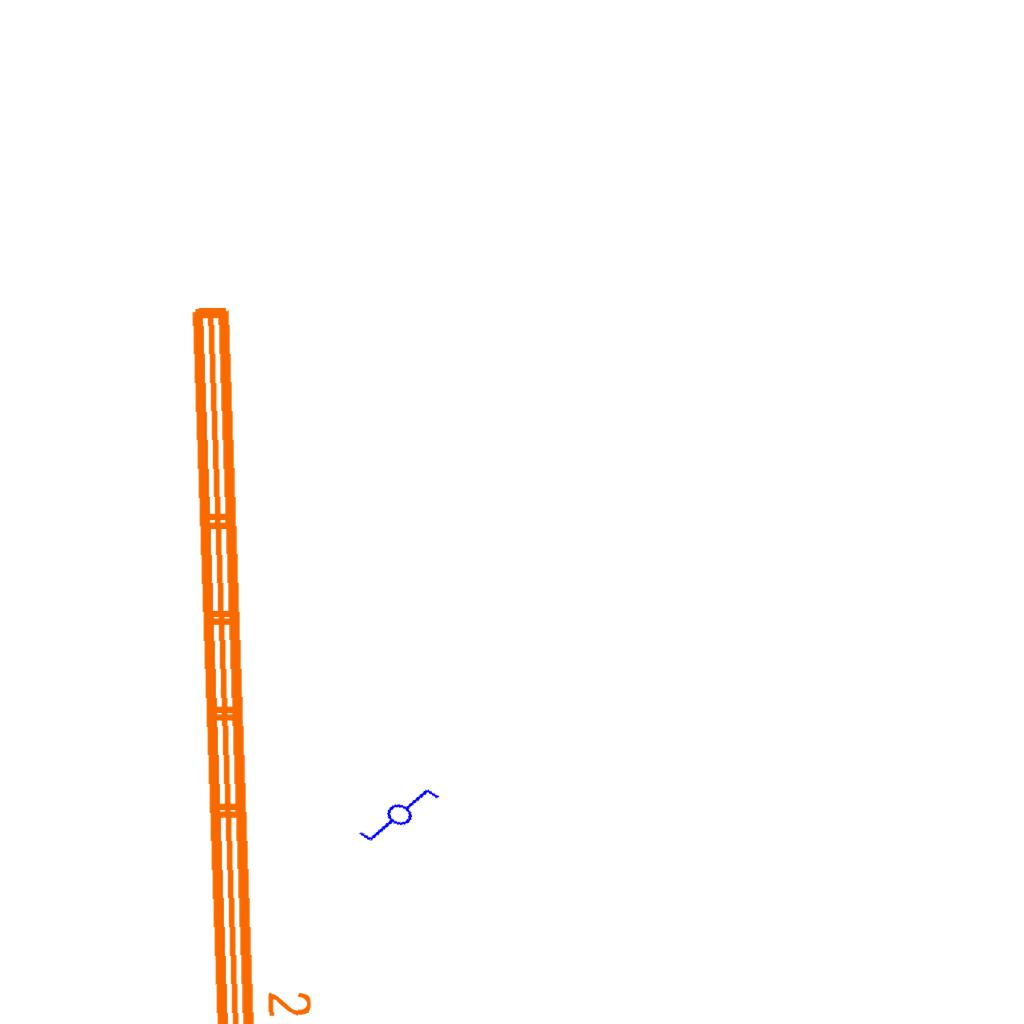Ambulanz_Pendelleuchte_LED: (179, 294, 319, 1024)
Wechselschalter: (355, 771, 451, 863)
